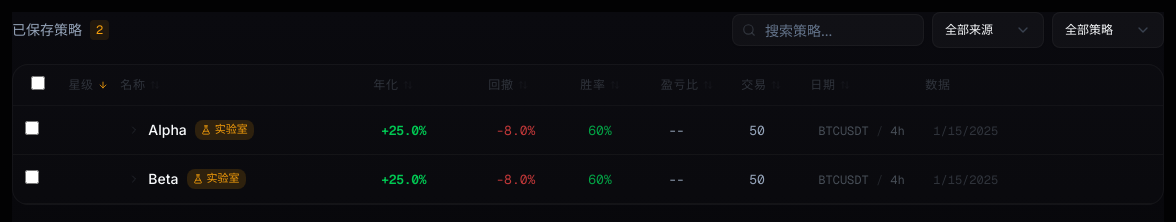
Strategies page › shows batch toolbar when strategies are selected
expect the text "Alpha" is shown: met, box x1=148 y1=120 x2=187 y2=140
Click the checkbox next to "Alpha" at [32, 128], box x1=25 y1=121 x2=39 y2=135
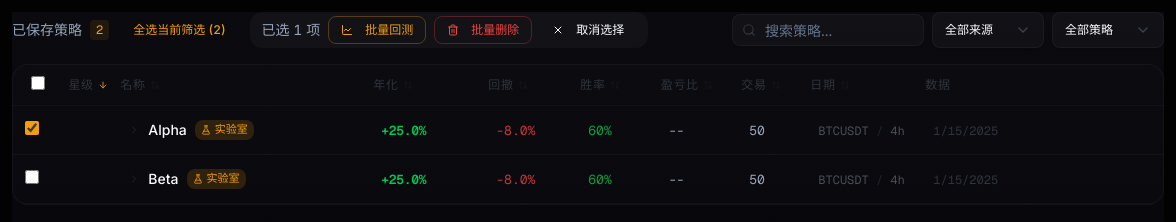
expect the text "已选 1 项" is shown: met, box x1=262 y1=20 x2=320 y2=40
expect the button "批量删除" is shown: met, box x1=434 y1=16 x2=532 y2=44
